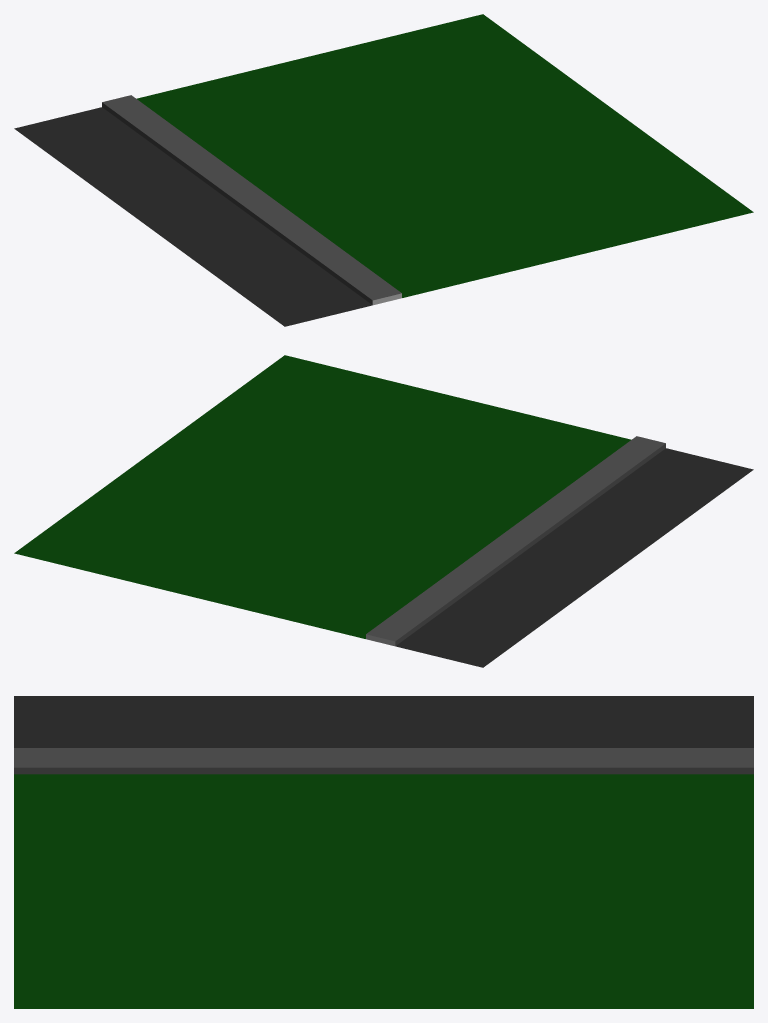
File: StreetCurbI.fbx
The picture shows the model from 3 angles, top to bottom: view 1: azimuth 30°, elevation 25°; view 2: azimuth 150°, elevation 25°; view 3: azimuth 270°, elevation 25°; orthographic projection. The views are drawn at different scales.
Visible parts, largest first — view 1: Plane.001; view 2: Plane.001; view 3: Plane.001.
Boxes of the visible parts, x1=… form: Plane.001: x1=14, y1=14, x2=753, y2=326; Plane.001: x1=14, y1=355, x2=753, y2=667; Plane.001: x1=14, y1=696, x2=753, y2=1008.
Bounding box in the file's own units: 500 × 5 × 500.
